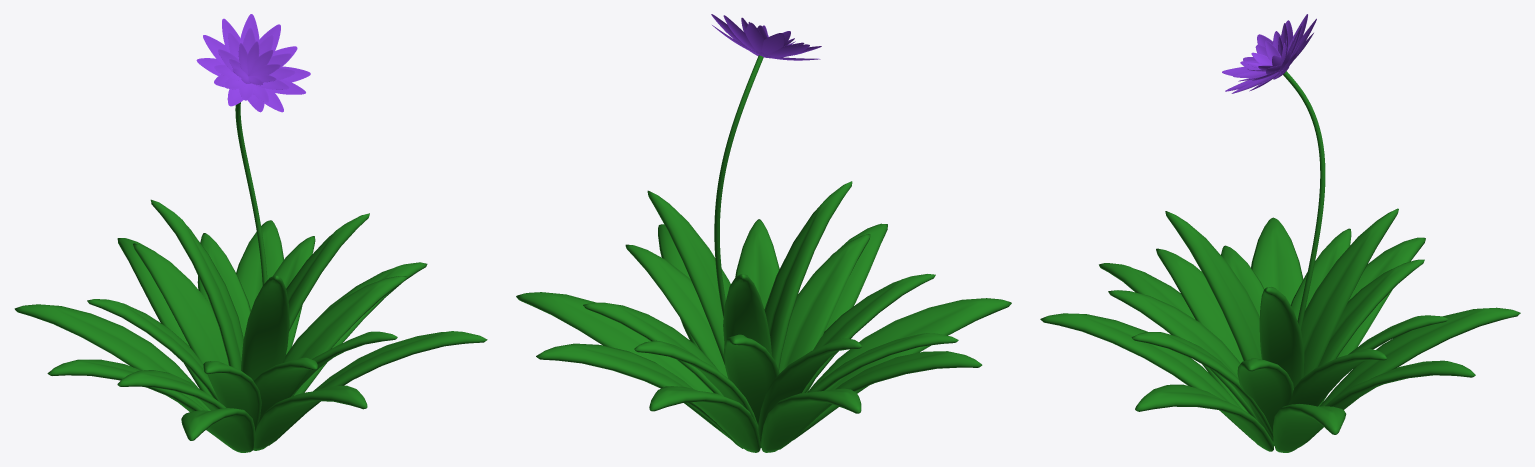
File: flower1.glb
3 renders of one model, left to right at view 1: azimuth 30°, elevation 25°; view 2: azimuth 150°, elevation 25°; view 3: azimuth 270°, elevation 25°, orthographic. The views are drawn at different scales.
Visible parts, largest first — view 1: Plane.003, Plane.025, BézierCurve; view 2: Plane.003, Plane.025, BézierCurve; view 3: Plane.003, Plane.025, BézierCurve.
Part boxes in pixels (x1,y1,x2,y2): Plane.003: [14, 199, 487, 452]; Plane.025: [196, 14, 310, 112]; BézierCurve: [235, 102, 267, 285]; Plane.003: [516, 181, 1011, 452]; Plane.025: [711, 14, 821, 60]; BézierCurve: [714, 55, 763, 317]; Plane.003: [1040, 208, 1520, 452]; Plane.025: [1222, 14, 1316, 93]; BézierCurve: [1283, 71, 1325, 329].
Size of the model in its own units: 1.05 by 1.02 by 1.05.
